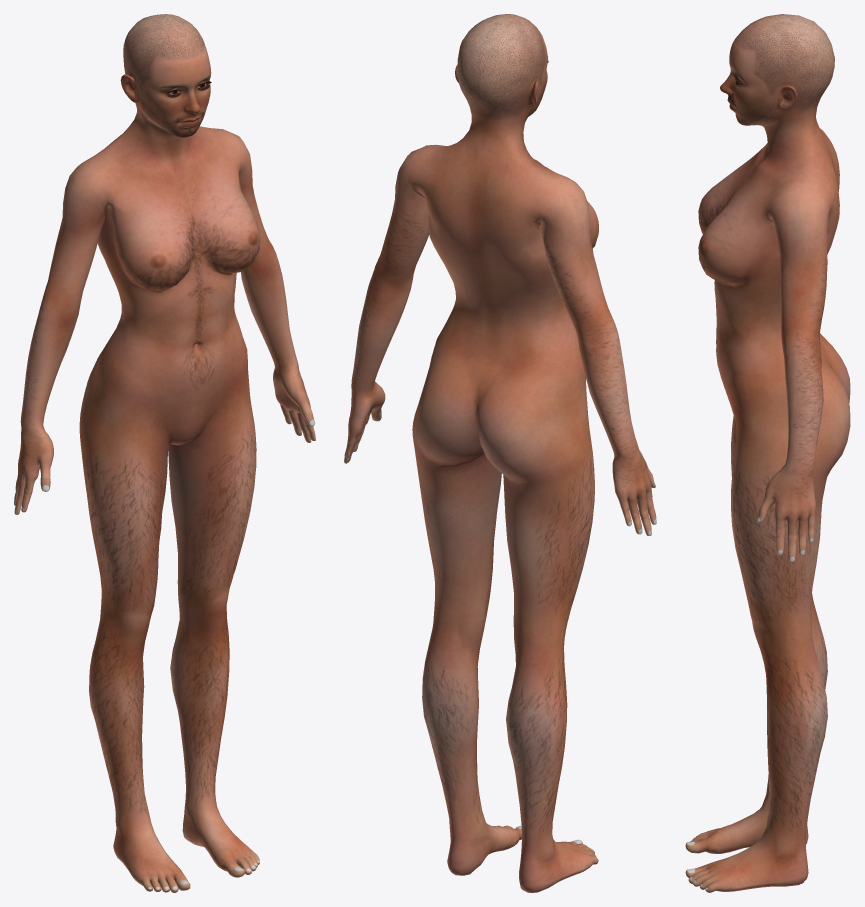
The model's file is WOMAN.obj.
3 renders of one model, left to right at view 1: azimuth 30°, elevation 25°; view 2: azimuth 150°, elevation 25°; view 3: azimuth 270°, elevation 25°, orthographic. The views are drawn at different scales.
Parts seen in each view (by area): view 1: CC_Base_Body; view 2: CC_Base_Body; view 3: CC_Base_Body.
Boxes of the visible parts, box(x1,y1,x2,y2) form: CC_Base_Body: box(14, 14, 315, 892); CC_Base_Body: box(344, 14, 656, 892); CC_Base_Body: box(685, 14, 850, 892).
Bounding box in the file's own units: 66.33 × 178 × 31.39.
